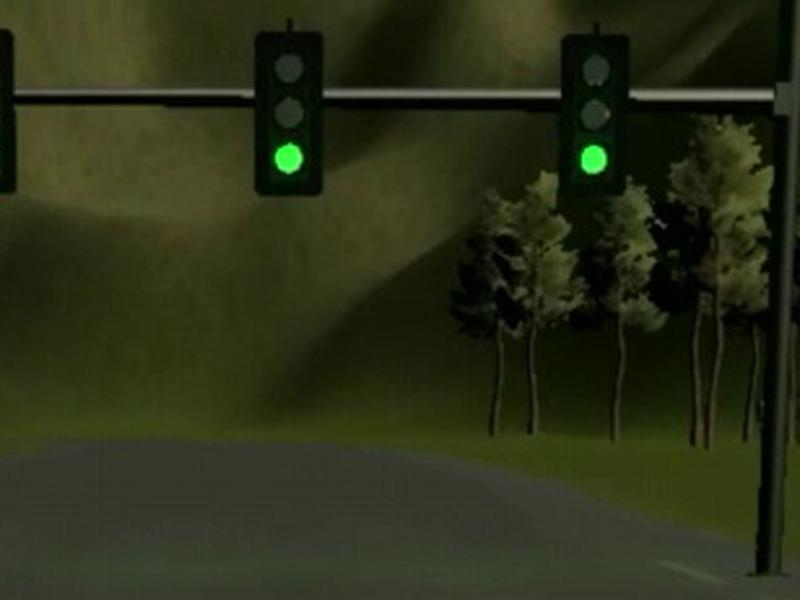Green: (255, 31, 322, 196), (561, 34, 628, 194)
